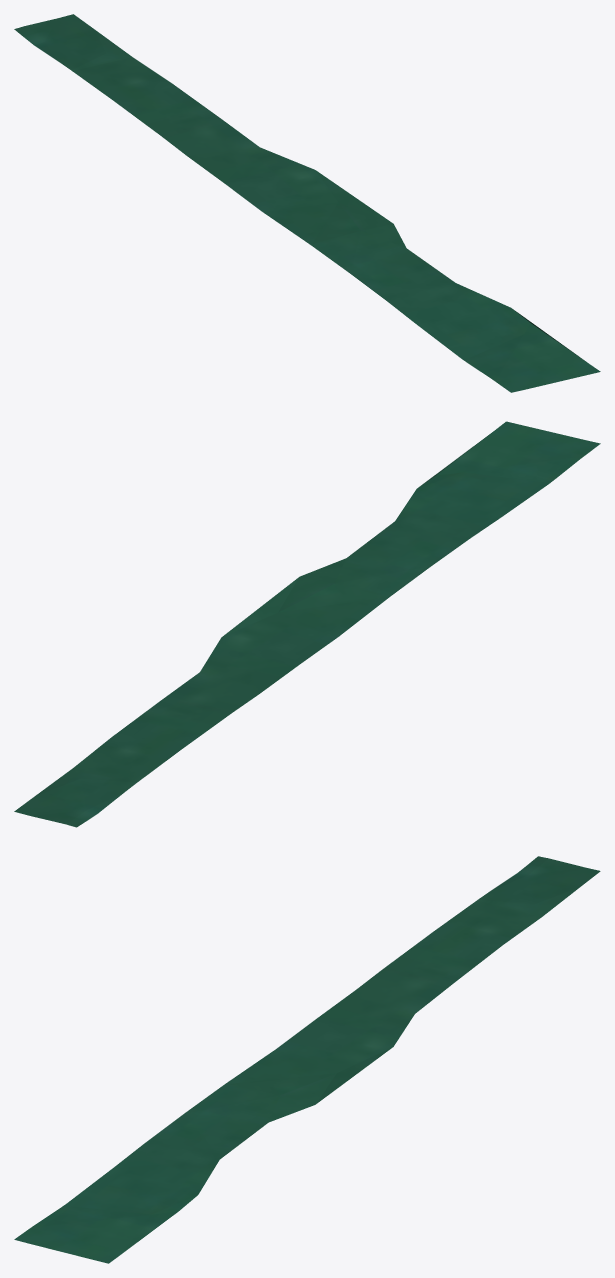
3 views of the same model, one above another, from view 1: azimuth 30°, elevation 25°; view 2: azimuth 150°, elevation 25°; view 3: azimuth 330°, elevation 25° (orthographic). The views are drawn at different scales.
Size of the model in its own units: 5.45 by 0.2617 by 52.22.
1 material, 1 textured.
